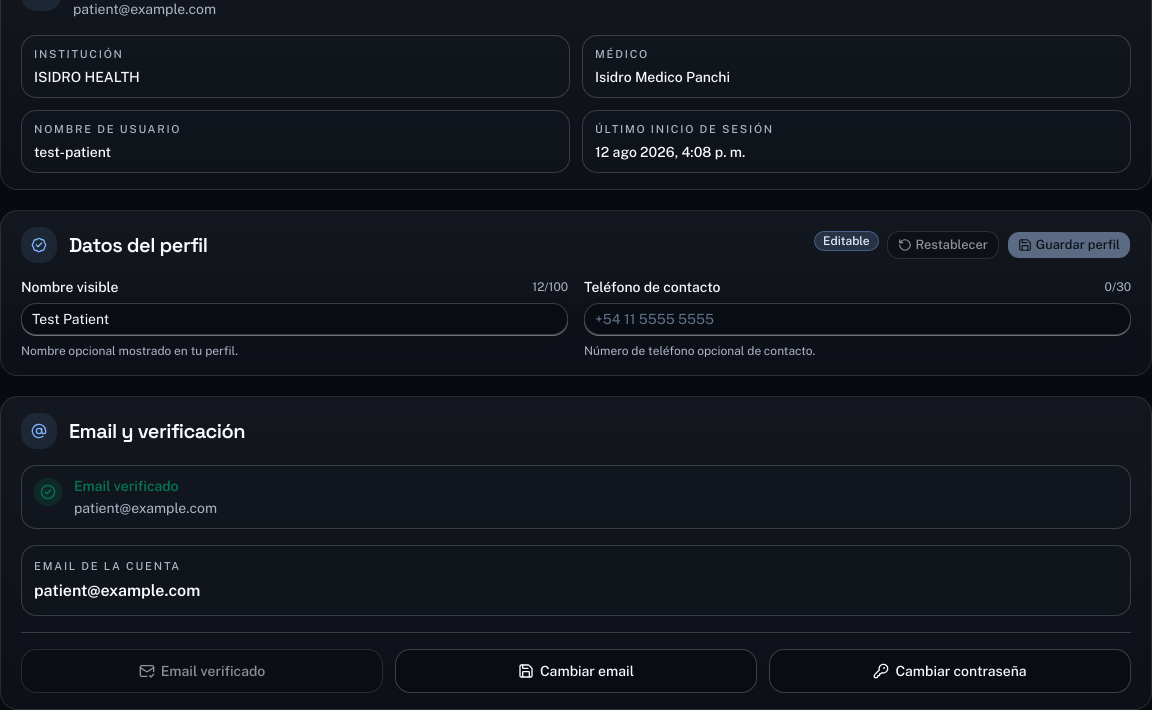
MyAccountWorkbench diagnostics › opens email changes in a modal instead of editing the account email inline
The image size is (1152, 710).
(page scrolled)
Click the button "Cambiar email": click(576, 671) [395, 649, 757, 693]
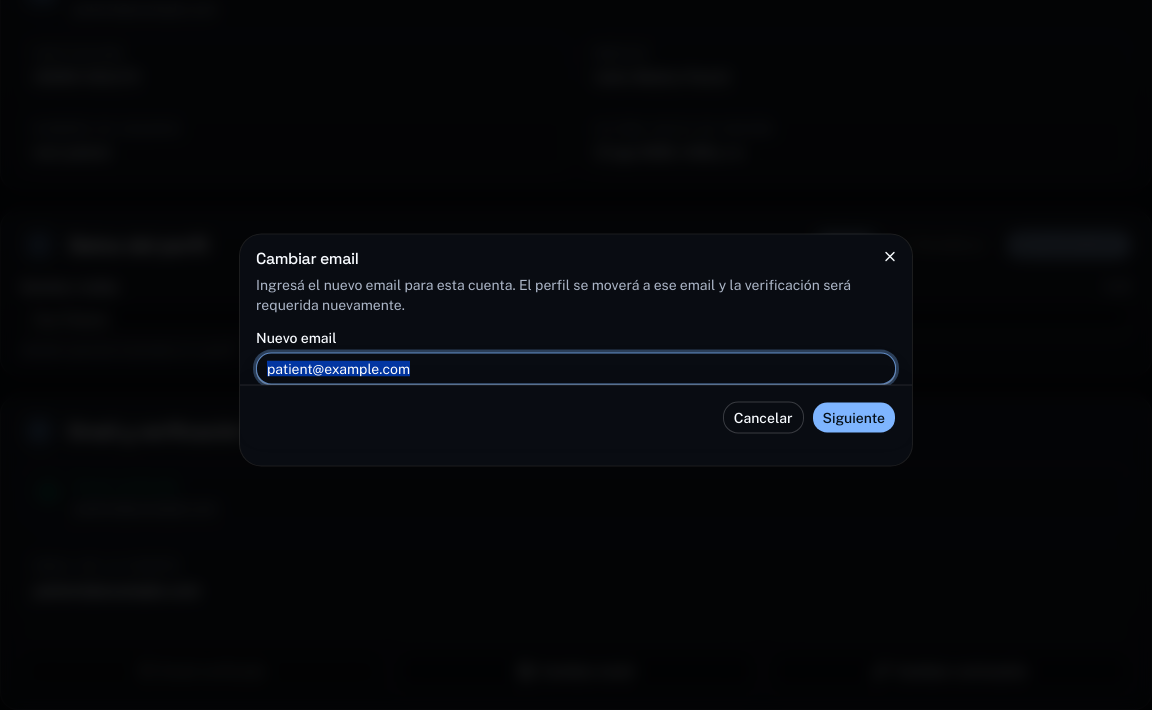
Expected: the heading "Cambiar email" is shown, [256, 248, 358, 268]
Expected: the field labelled "Nuevo email" is shown, [256, 352, 896, 384]
Expected: the button "Siguiente" is shown, [812, 402, 896, 434]
